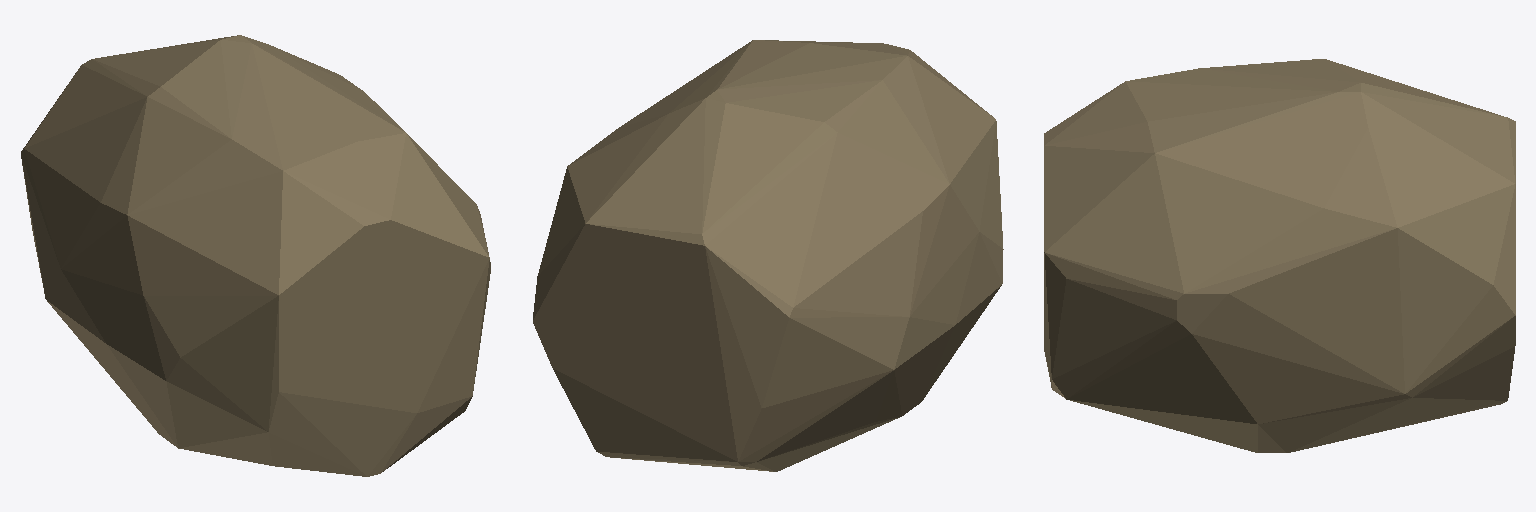
The robot description file, URDF, robot "Barrell":
<?xml version="1.0"?>
<robot name="Barrell">
  <link name="base_link">
    <visual>
      <origin xyz="0 0 0" rpy="0 0 0" />
      <geometry>
        <mesh filename="Barrell_decimated.obj" />      
      </geometry>
      <material name="tan">
        <color rgba="0.55 0.5 0.4 1" />
      </material>
    </visual>
    <collision>
      <origin xyz="0 0 0" rpy="0 0 0" />
      <geometry>
        <mesh filename="Barrell_decimated.obj" />
      </geometry>
    </collision>
  </link>
</robot>

--- Render facts (derived) ---
The picture shows the robot from 3 angles, left to right: view 1: azimuth 30°, elevation 25°; view 2: azimuth 150°, elevation 25°; view 3: azimuth 270°, elevation 25°; orthographic projection.
Model Barrell with 1 links and 0 joints (none), rooted at base_link, posed every joint at zero.
Links seen in each view (by area): view 1: base_link; view 2: base_link; view 3: base_link.
Link boxes in pixels (box(x1,y1,x2,y2)): base_link: box(21, 35, 490, 476); base_link: box(533, 40, 1003, 471); base_link: box(1044, 59, 1515, 452).
Bounding box of the posed robot: 30.6 × 38.39 × 31.8 m (x, y, z).
1 mesh visuals loaded from 1 distinct referenced files (1 OBJ).
